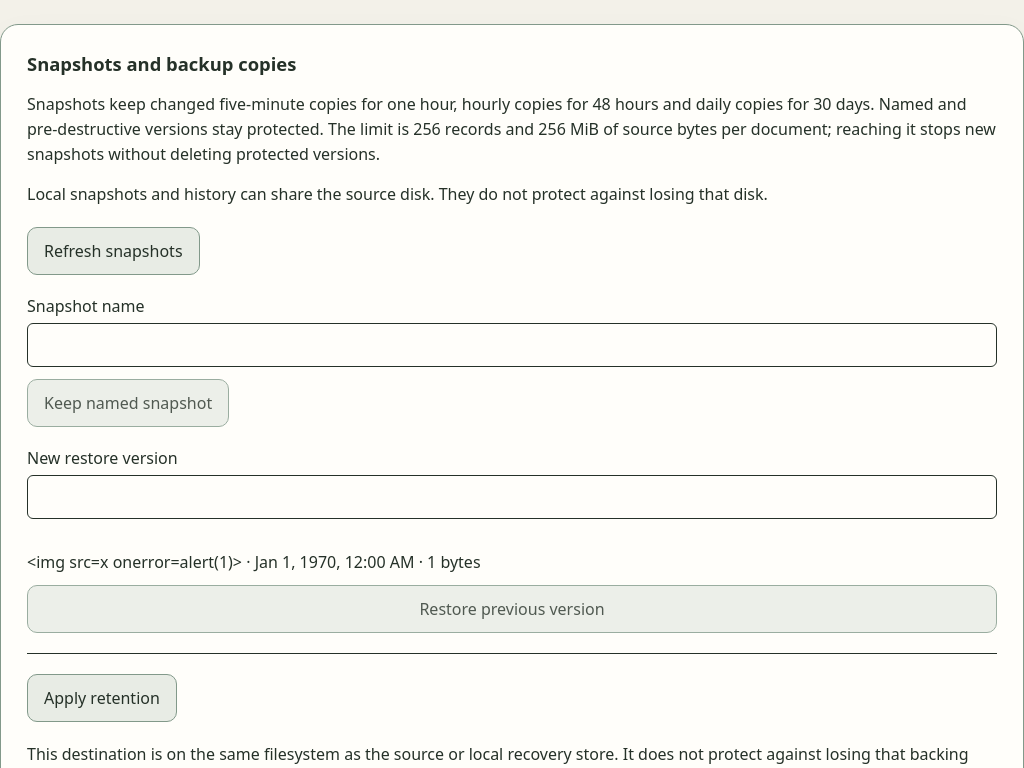
snapshot review with injected ports › renders names as text and verifies named/copy receipts with distinct status
This screenshot has width=1024, height=768.
Check: the text "<img src=x" is shown, box [27,551,242,573]
In the field labelled "Snapshot name": {"x": 512, "y": 345} [27,323,997,367], type "Named"
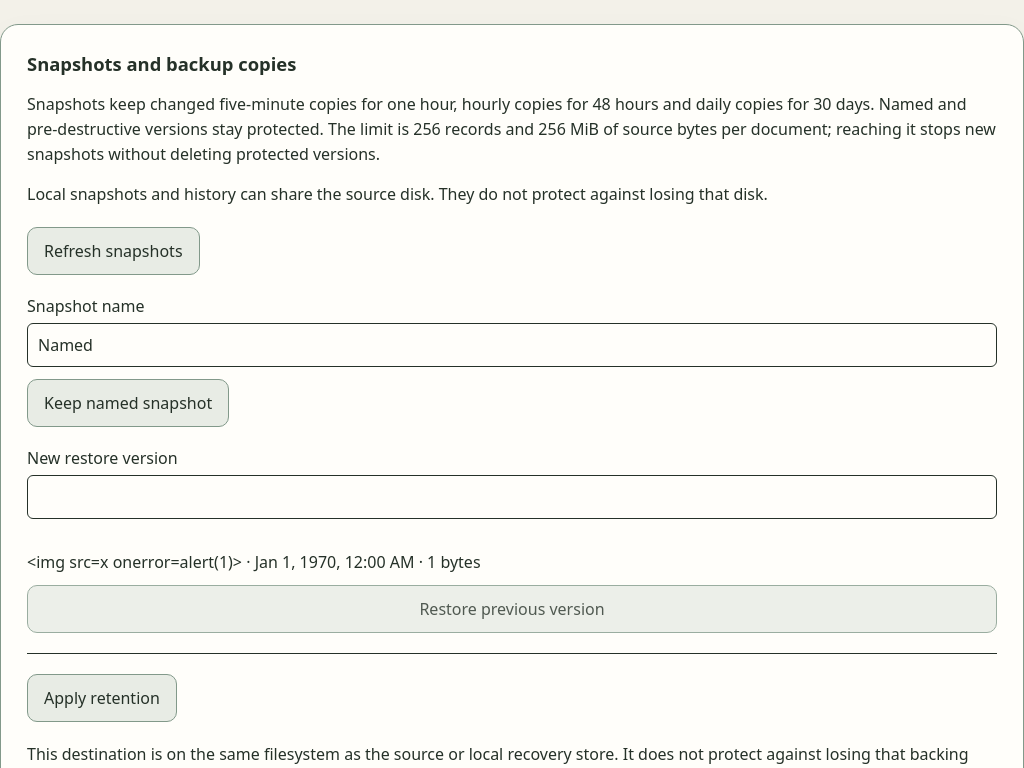
Click the button "Keep named snapshot": {"x": 128, "y": 403} [27,379,229,427]
(page scrolled)
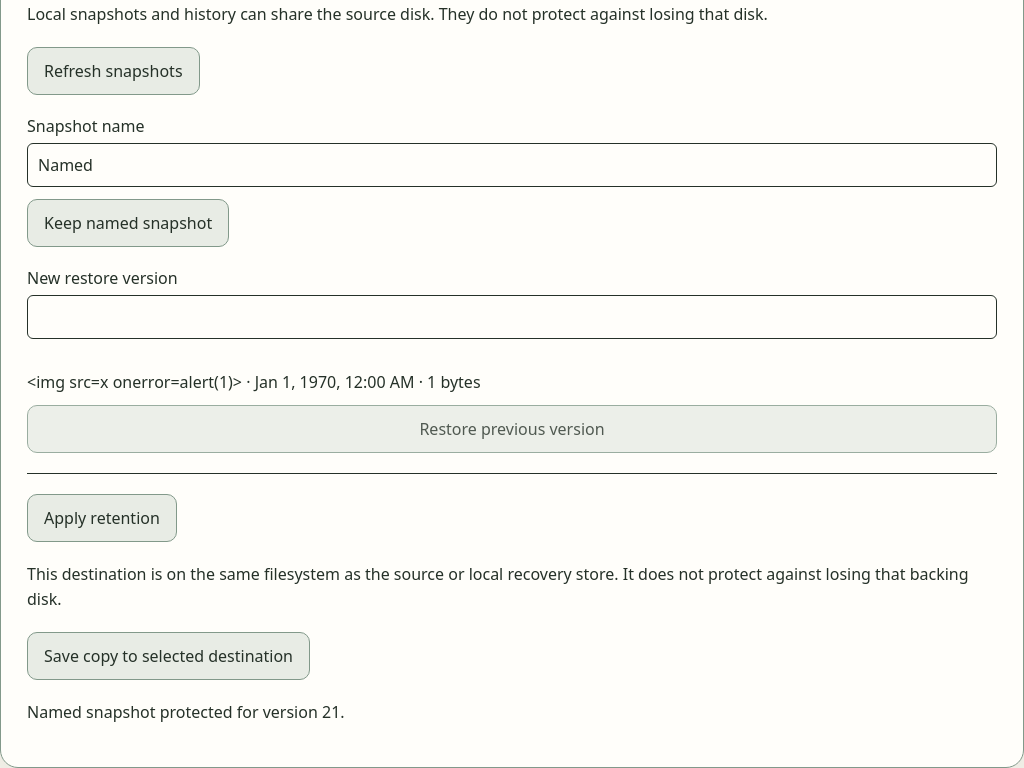
Check: the text "Named snapshot protected for version 21." is shown, box [27,701,345,723]
Click the button "Save copy to selected destination": {"x": 168, "y": 656} [27,632,310,680]
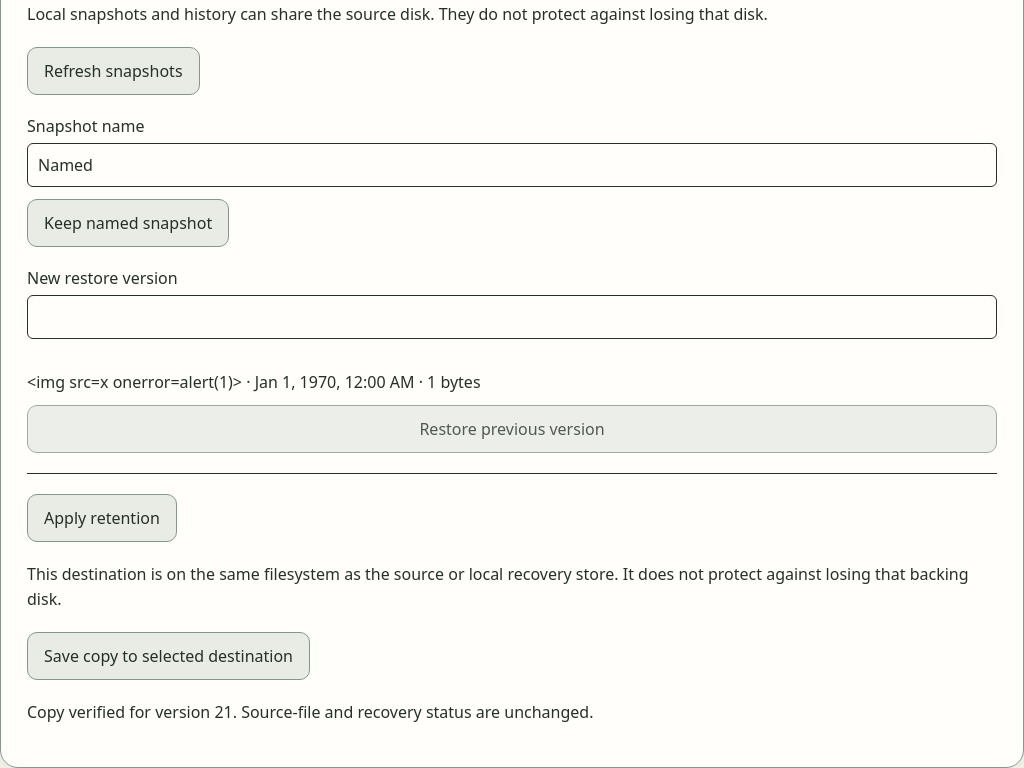
Check: the text "Copy verified for version 21. Source-file and recovery status are unchanged." is shown, box [27,701,594,723]
